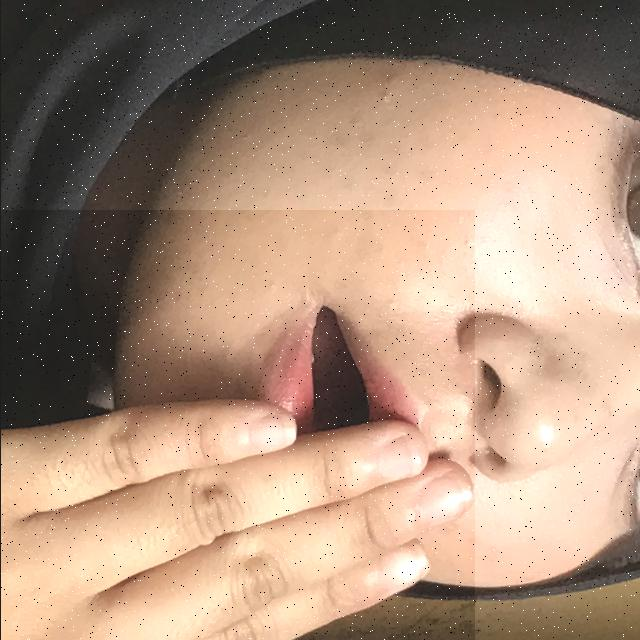ngantuk: (0, 210, 474, 640)
